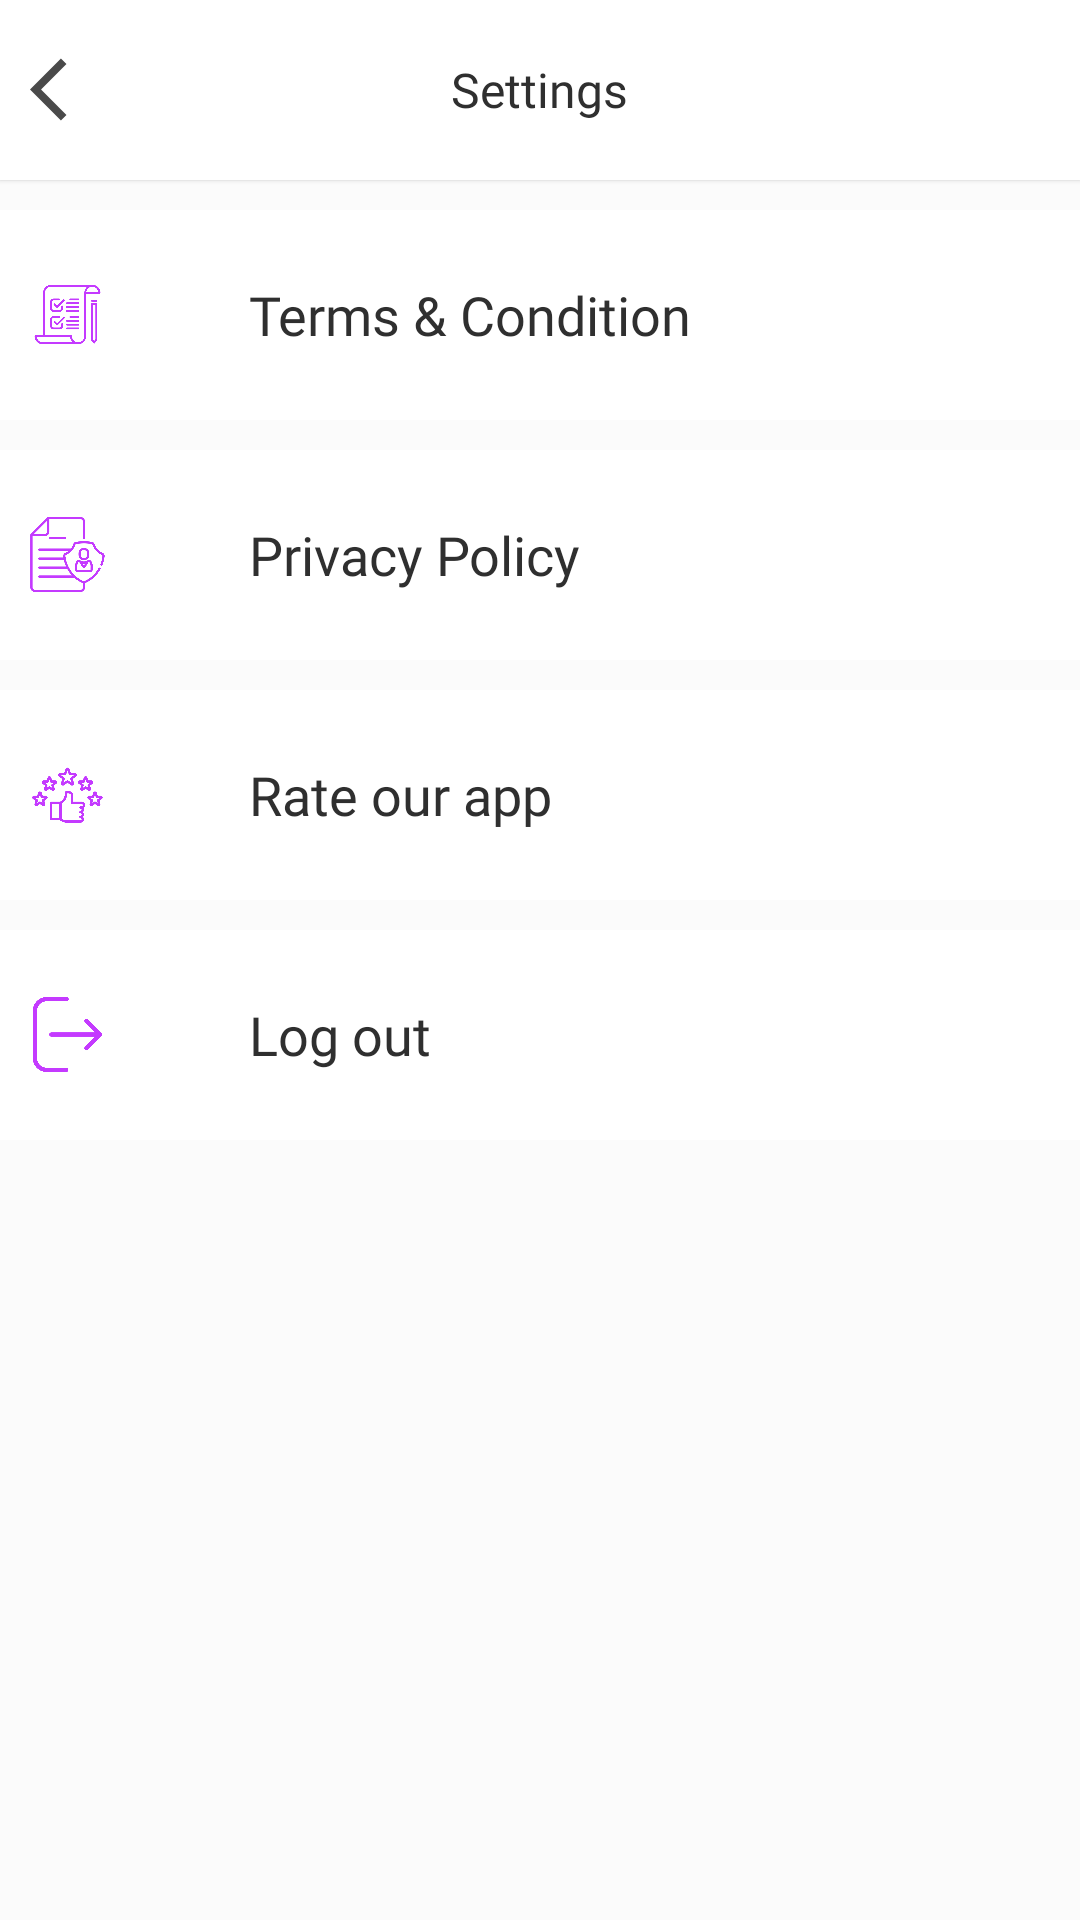

Named icons in this screenshot (1080w x 1920h) and their centers, point (x, y):
arrow back: point (48, 89)
